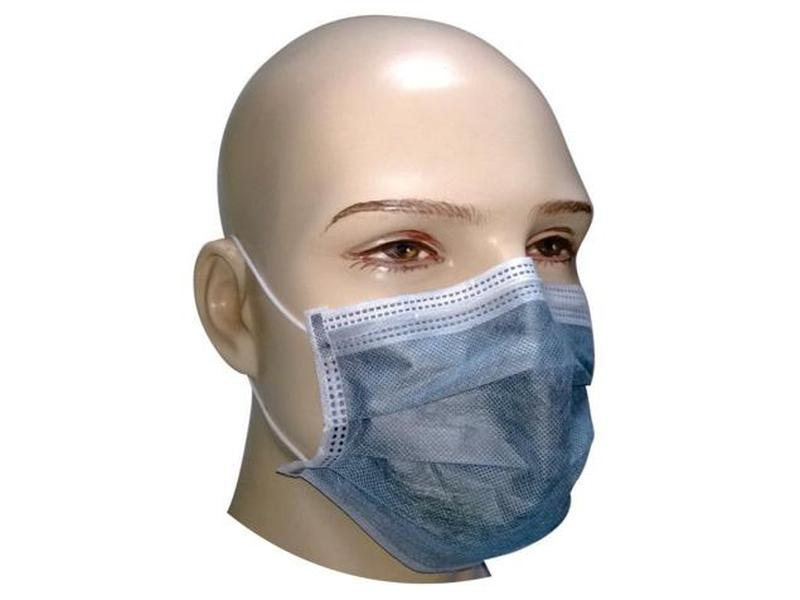with_mask: (192, 14, 600, 576)
